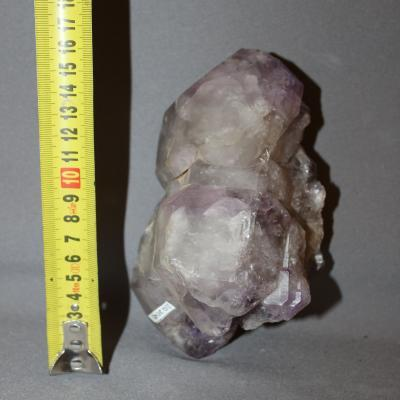mineralogy: (132, 48, 339, 362)
